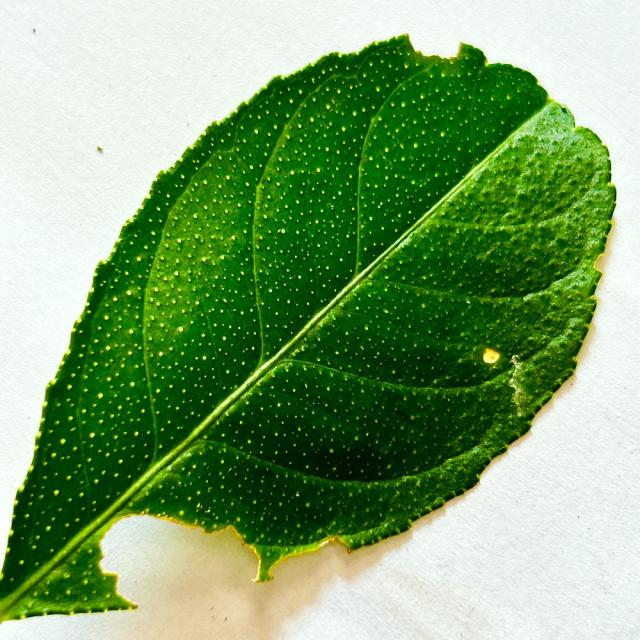Deficiency Leaf: (100, 516, 266, 607)
Lemon: (3, 36, 615, 617)
